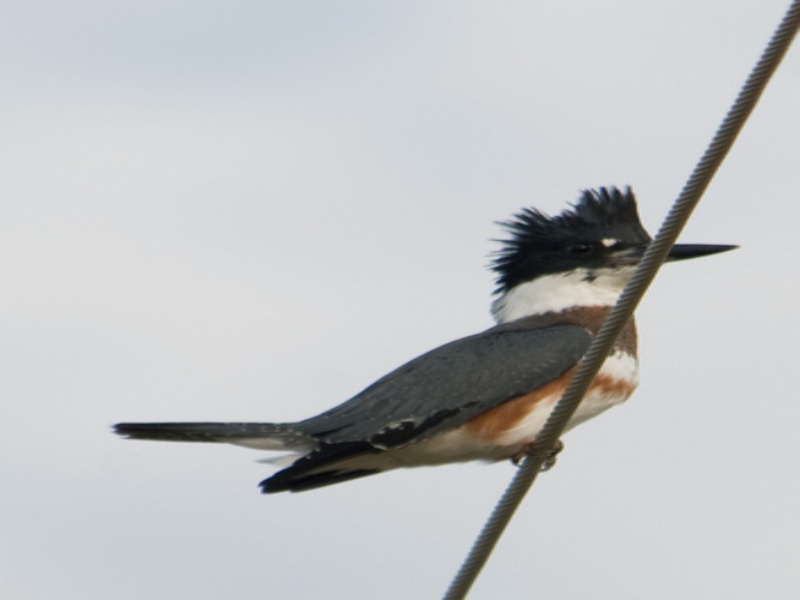kingfisher: (104, 184, 739, 496)
